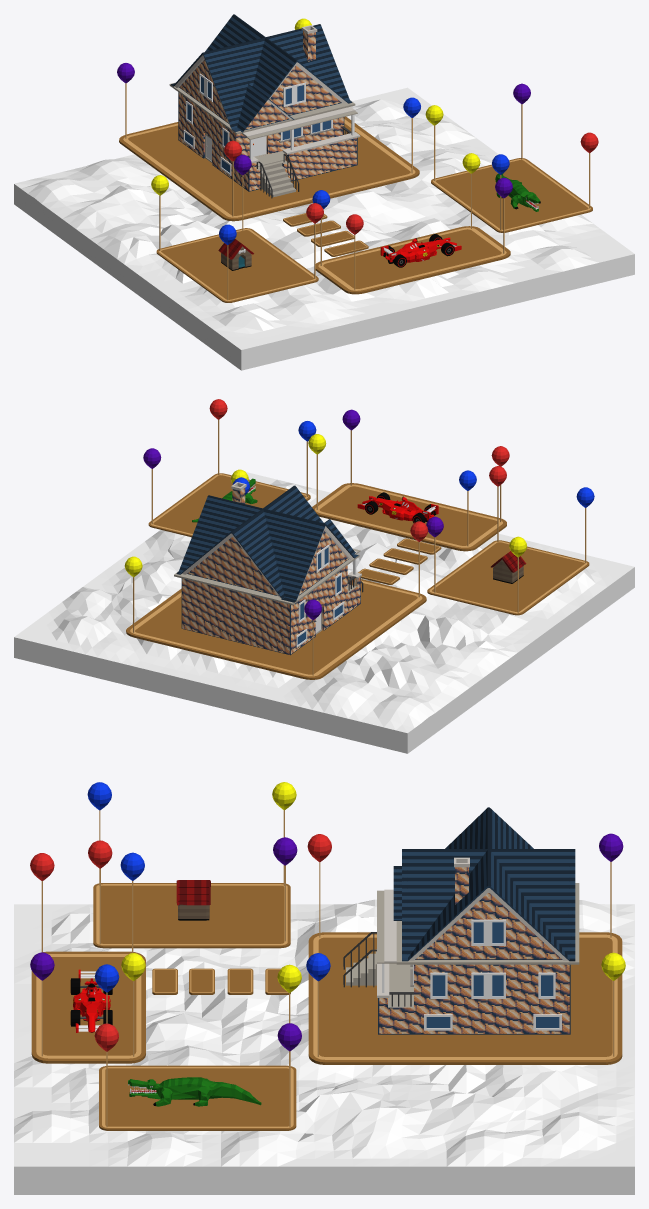
The picture shows the model from 3 angles, top to bottom: view 1: azimuth 30°, elevation 25°; view 2: azimuth 150°, elevation 25°; view 3: azimuth 270°, elevation 25°; orthographic projection. The views are drawn at different scales.
Visible parts, largest first — view 1: Cube.013, Cube.430, VEHICLES_FORMULA_1, OBJRANDOM_DOGHOUSE, ANIMAL_COCODRILO; view 2: Cube.013, Cube.430, VEHICLES_FORMULA_1, OBJRANDOM_DOGHOUSE; view 3: Cube.013, Cube.430, ANIMAL_COCODRILO, VEHICLES_FORMULA_1, OBJRANDOM_DOGHOUSE.
Part boxes in pixels (x1,y1,x2,y2): Cube.013: (14, 18, 634, 370); Cube.430: (169, 14, 360, 198); VEHICLES_FORMULA_1: (380, 234, 461, 267); OBJRANDOM_DOGHOUSE: (218, 239, 253, 270); ANIMAL_COCODRILO: (495, 173, 540, 211); Cube.013: (14, 399, 634, 753); Cube.430: (174, 482, 363, 655); VEHICLES_FORMULA_1: (357, 492, 438, 522); OBJRANDOM_DOGHOUSE: (491, 551, 526, 583); Cube.013: (14, 782, 634, 1194); Cube.430: (343, 807, 579, 1034); ANIMAL_COCODRILO: (128, 1077, 261, 1106); VEHICLES_FORMULA_1: (70, 969, 112, 1032); OBJRANDOM_DOGHOUSE: (176, 880, 210, 920).
Size of the model in its own units: 4000 by 1840 by 4000.
41 materials, 2 textured.
